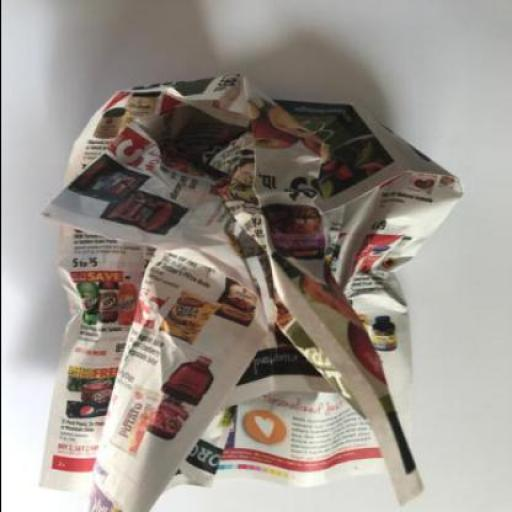paper: (37, 75, 461, 511)
